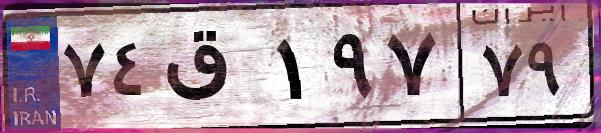1: (270, 28, 330, 110)
4: (110, 28, 158, 98)
7: (385, 28, 445, 110), (57, 26, 110, 100), (475, 38, 525, 113)
9: (330, 28, 385, 110), (525, 38, 570, 115)
ق: (158, 20, 270, 120)
